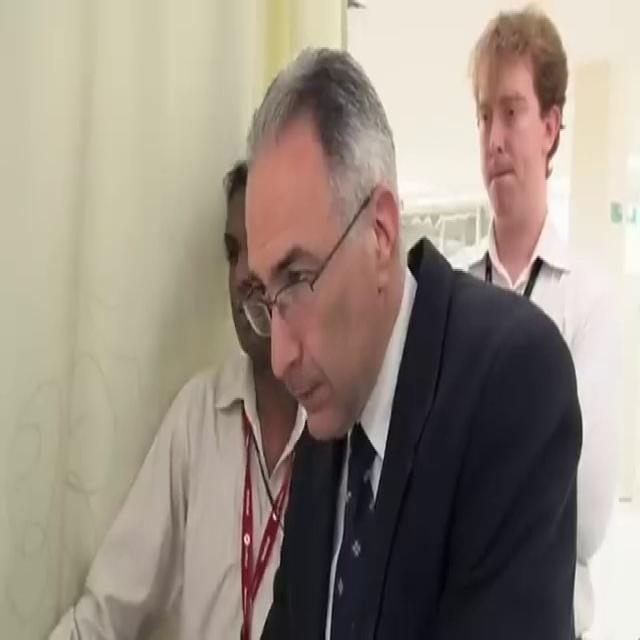doctor: (240, 44, 583, 636)
nurse: (45, 156, 309, 638)
others: (451, 6, 622, 636)
